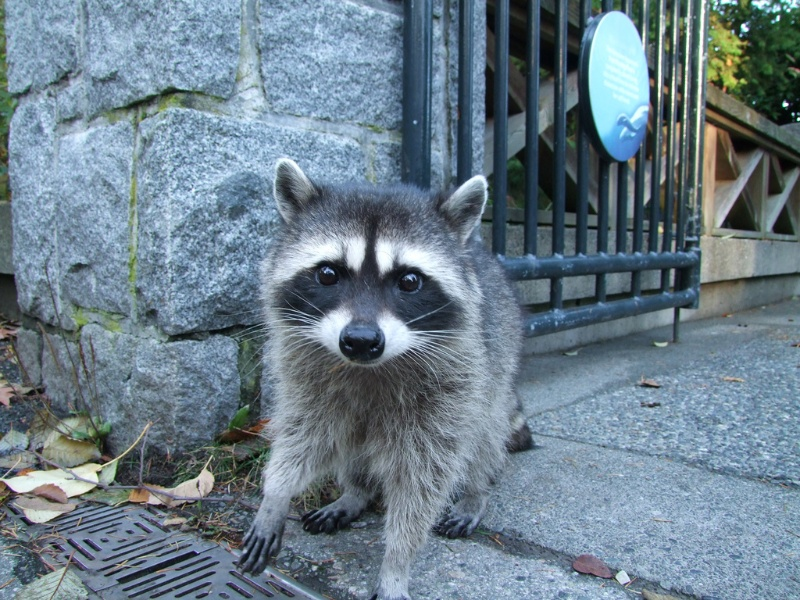raccoon: (237, 151, 540, 596)
